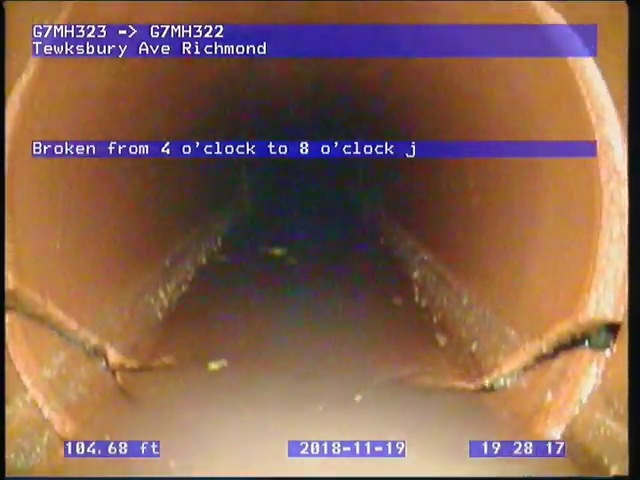crack: (6, 279, 159, 399), (452, 319, 625, 394)
